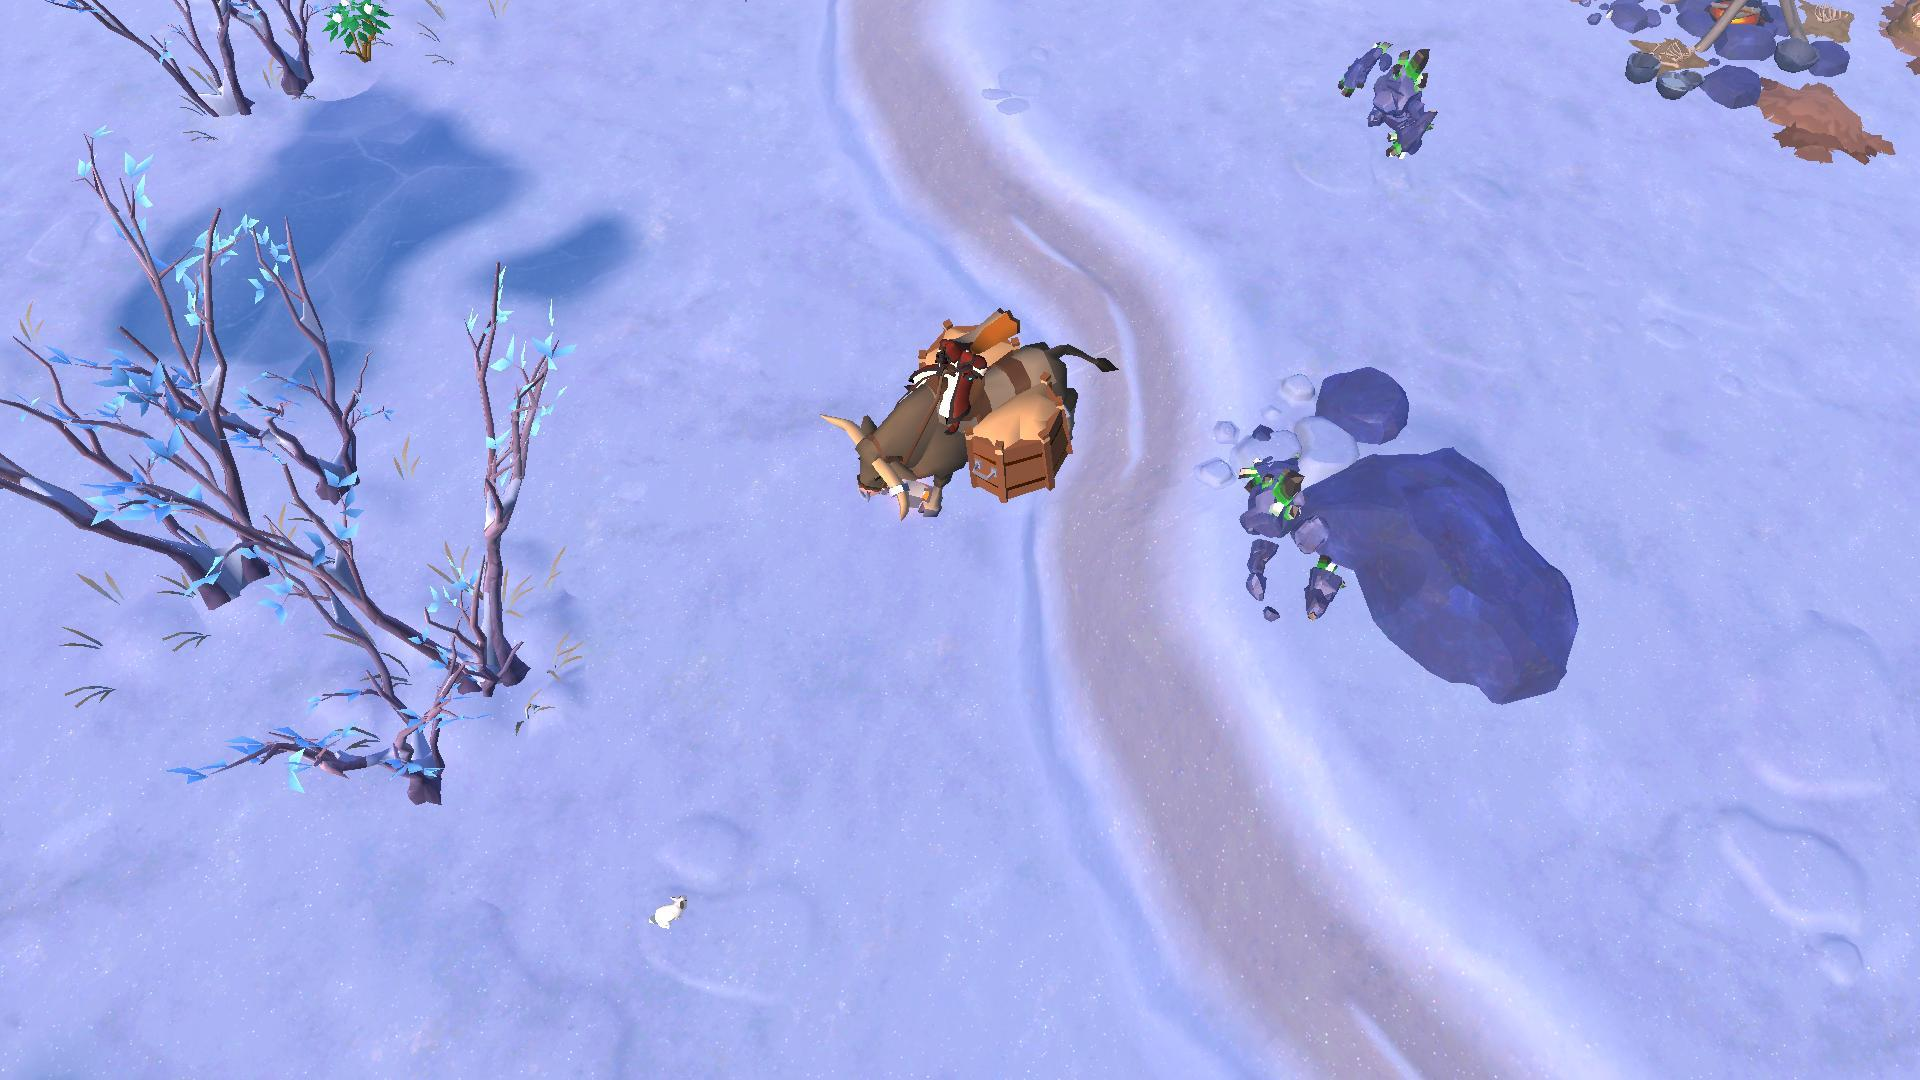fiber_t3: (322, 0, 393, 62)
